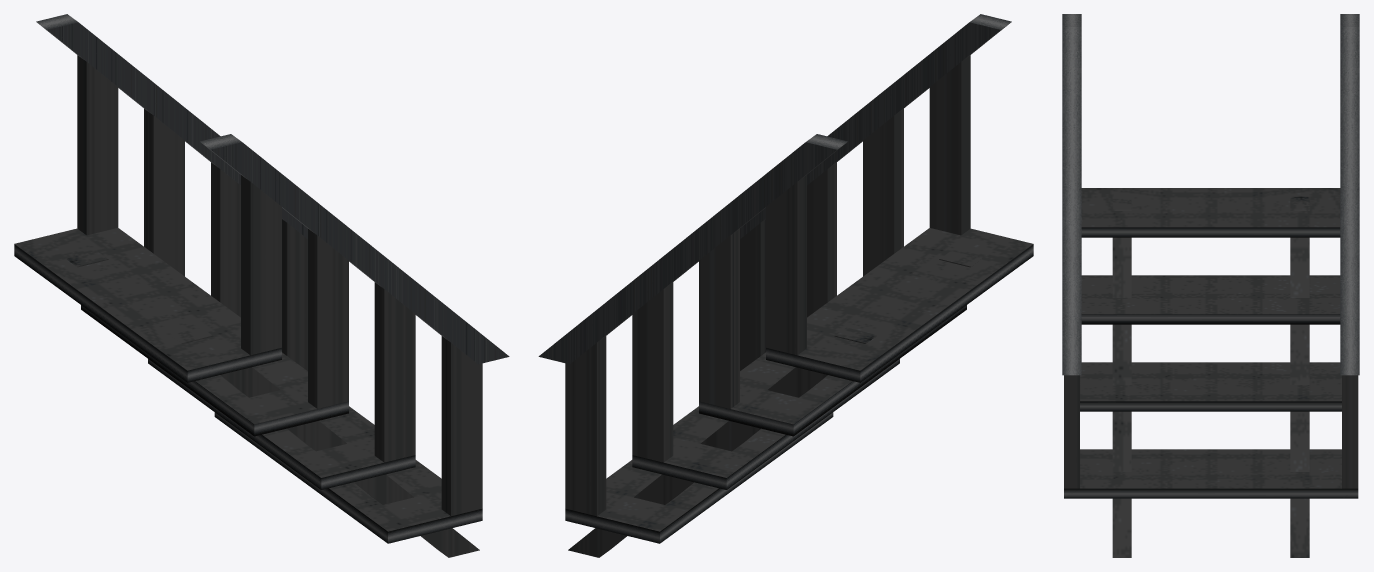
Rendered from SmallStairs.fbx.
The picture shows the model from 3 angles, left to right: view 1: azimuth 30°, elevation 25°; view 2: azimuth 150°, elevation 25°; view 3: azimuth 270°, elevation 25°; orthographic projection. The views are drawn at different scales.
Visible parts, largest first — view 1: Stairs; view 2: Stairs; view 3: Stairs.
Boxes of the visible parts, x1,y1,x2,y2 form: Stairs: (14,14,509,557); Stairs: (538,14,1033,557); Stairs: (1062,14,1359,557).
Size of what is drawn, in the model's own units: 240 by 354 by 227.
